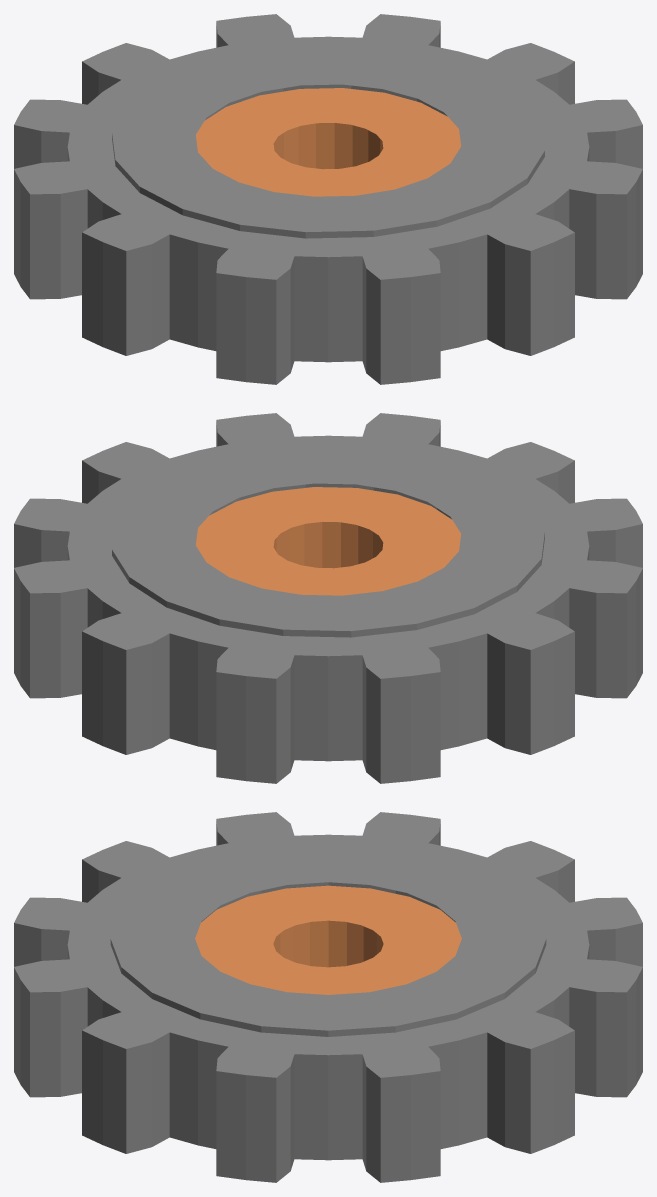
File: gear.fbx
3 views of the same model, one above another, from view 1: azimuth 30°, elevation 25°; view 2: azimuth 150°, elevation 25°; view 3: azimuth 270°, elevation 25° (orthographic).
Visible parts, largest first — view 1: Gear, Cylinder, Cylinder.001, Cylinder.002; view 2: Gear, Cylinder, Cylinder.001, Cylinder.002; view 3: Gear, Cylinder, Cylinder.001, Cylinder.002.
Part boxes in pixels (<box>): Gear: <box>14,14,642,384</box>; Cylinder: <box>112,49,544,238</box>; Cylinder.001: <box>196,88,461,196</box>; Cylinder.002: <box>273,123,383,169</box>; Gear: <box>14,413,642,783</box>; Cylinder: <box>112,448,544,637</box>; Cylinder.001: <box>195,487,460,595</box>; Cylinder.002: <box>273,522,383,568</box>; Gear: <box>14,812,642,1182</box>; Cylinder: <box>110,846,546,1036</box>; Cylinder.001: <box>195,885,461,994</box>; Cylinder.002: <box>273,920,383,967</box>.
Size of the model in its own units: 138 by 28.47 by 138.
